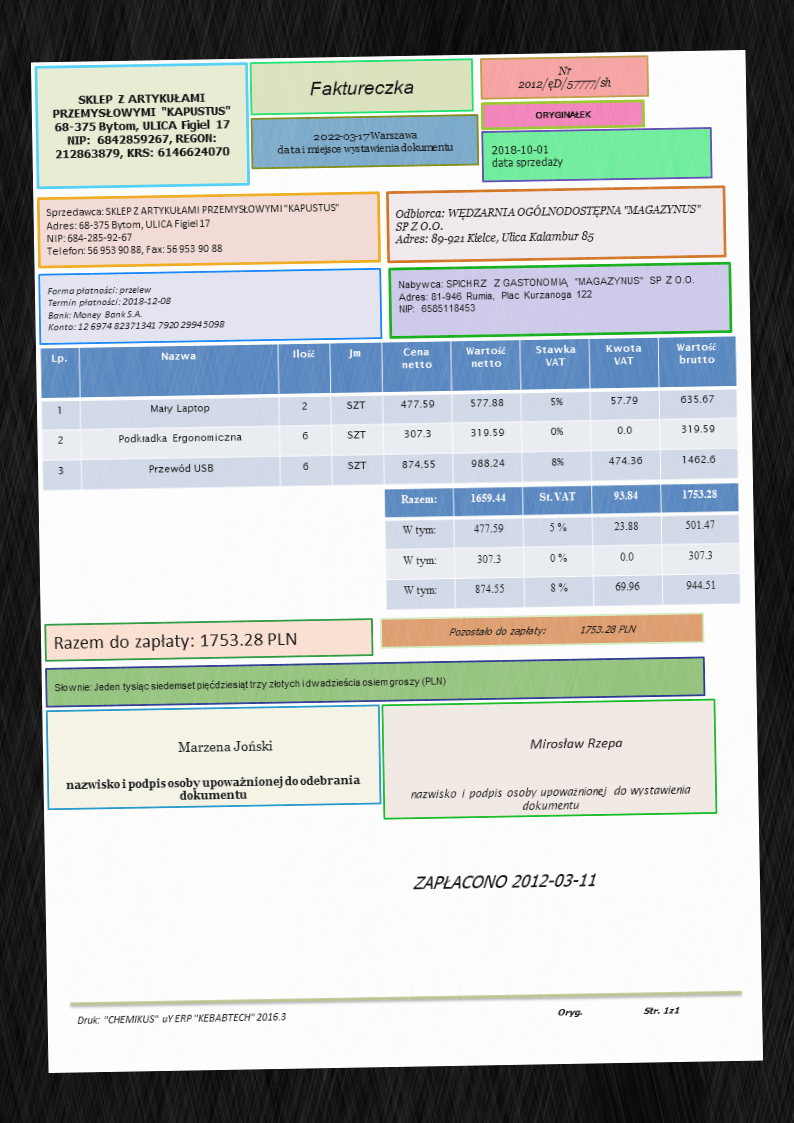Table: (39, 334, 740, 493), (383, 479, 742, 609)
TextBox: (42, 198, 340, 259), (393, 198, 705, 249), (49, 87, 233, 163), (397, 271, 696, 316), (63, 771, 362, 805), (407, 780, 693, 815), (45, 280, 227, 334), (51, 673, 450, 697), (50, 627, 299, 654), (274, 126, 456, 158), (410, 866, 602, 894), (75, 1008, 291, 1028), (445, 620, 640, 640), (515, 62, 613, 94), (306, 75, 416, 102), (173, 734, 274, 757), (489, 140, 563, 171), (554, 1003, 682, 1020), (527, 732, 625, 753), (532, 106, 591, 122)
